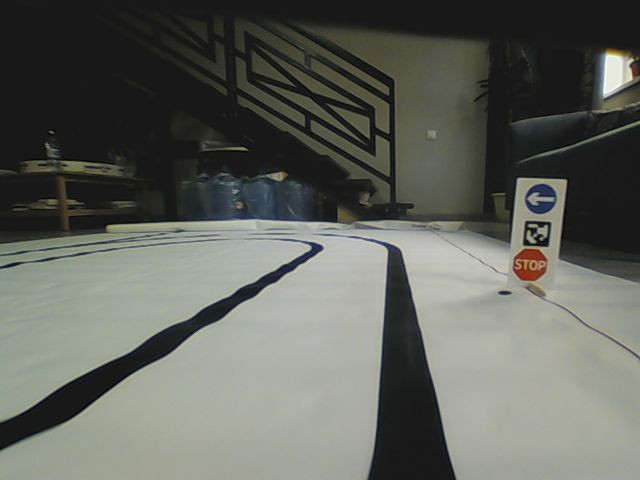Stop: (513, 247, 549, 283)
